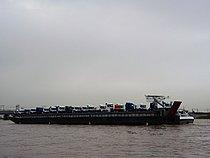Ship: (5, 93, 197, 129)
